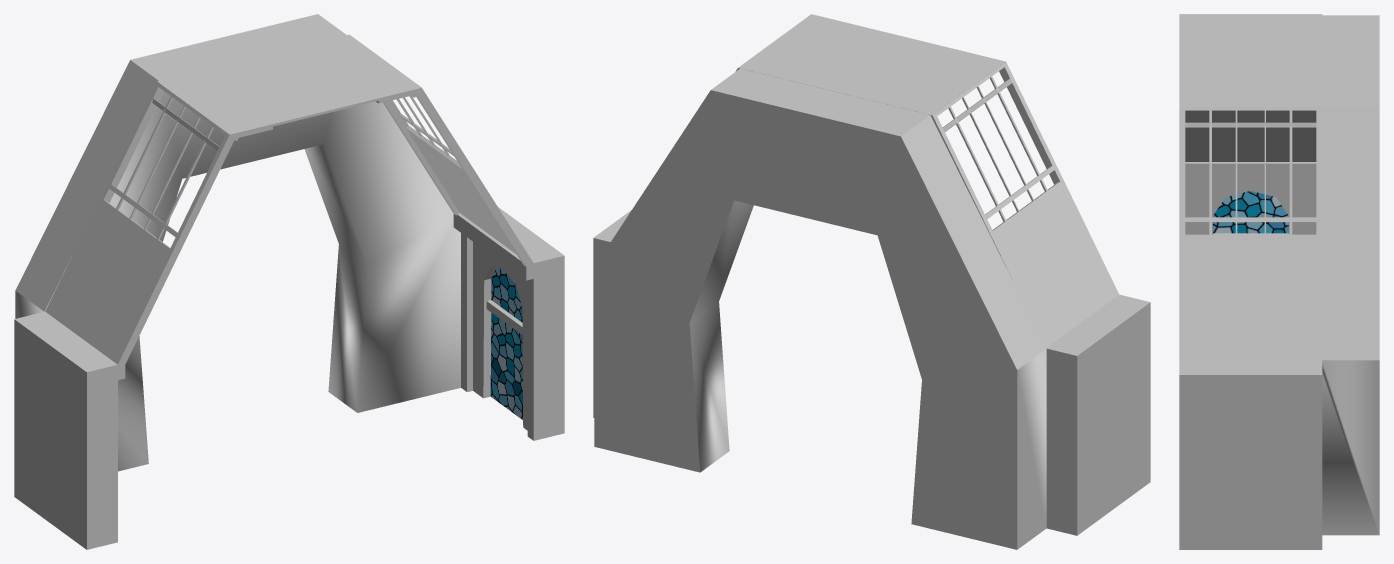
File: last_roadwall3.fbx
The picture shows the model from 3 angles, left to right: view 1: azimuth 30°, elevation 25°; view 2: azimuth 150°, elevation 25°; view 3: azimuth 270°, elevation 25°; orthographic projection. The views are drawn at different scales.
Visible parts, largest first — view 1: wall2, wall.001, wall, tenzyou.001, top, tenzyou; view 2: wall2, wall.001, tenzyou.001, top, wall; view 3: wall2, wall, tenzyou, top, wall.001, tenzyou.001.
Part boxes in pixels (left/top/right/bottom): wall2: left=15, top=14, right=460, bottom=471; wall.001: left=14, top=311, right=125, bottom=549; wall: left=453, top=207, right=564, bottom=440; tenzyou.001: left=45, top=81, right=238, bottom=369; top: left=157, top=34, right=421, bottom=138; tenzyou: left=350, top=35, right=533, bottom=266; wall2: left=594, top=68, right=1046, bottom=549; wall.001: left=1046, top=294, right=1150, bottom=535; tenzyou.001: left=931, top=62, right=1118, bottom=347; top: left=738, top=14, right=1005, bottom=116; wall: left=593, top=210, right=631, bottom=417; wall2: left=1322, top=15, right=1379, bottom=535; wall: left=1179, top=360, right=1322, bottom=549; tenzyou: left=1179, top=106, right=1322, bottom=359; top: left=1179, top=14, right=1322, bottom=106; wall.001: left=1185, top=162, right=1316, bottom=234; tenzyou.001: left=1179, top=14, right=1321, bottom=161.
Size of the model in its own units: 1900 by 1446 by 700.
